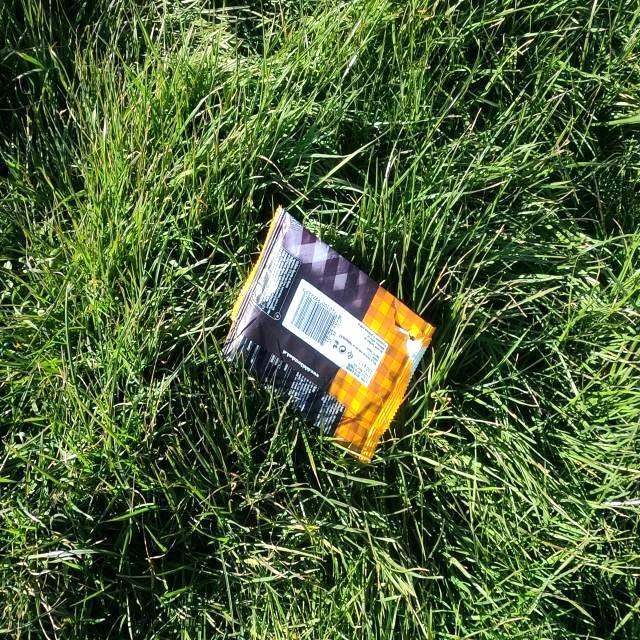Plastic: (218, 202, 437, 466)
